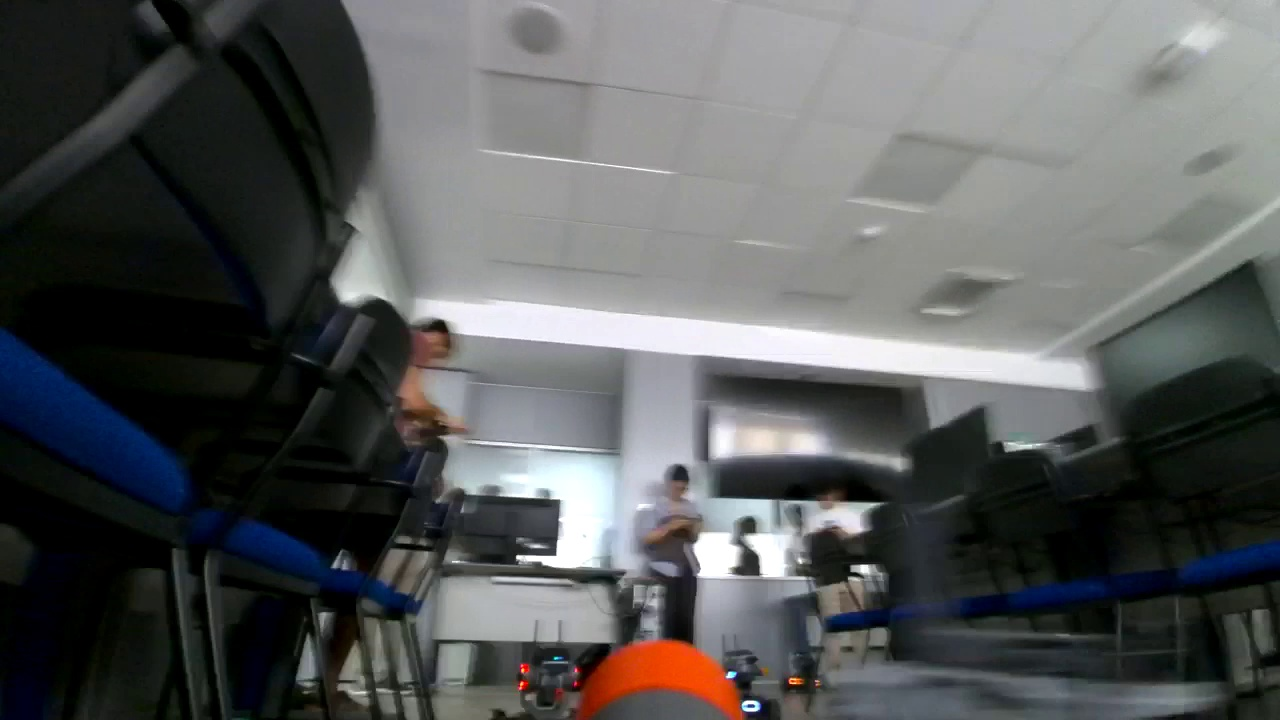robot: (501, 620, 580, 720), (704, 634, 780, 720), (783, 650, 824, 691)
